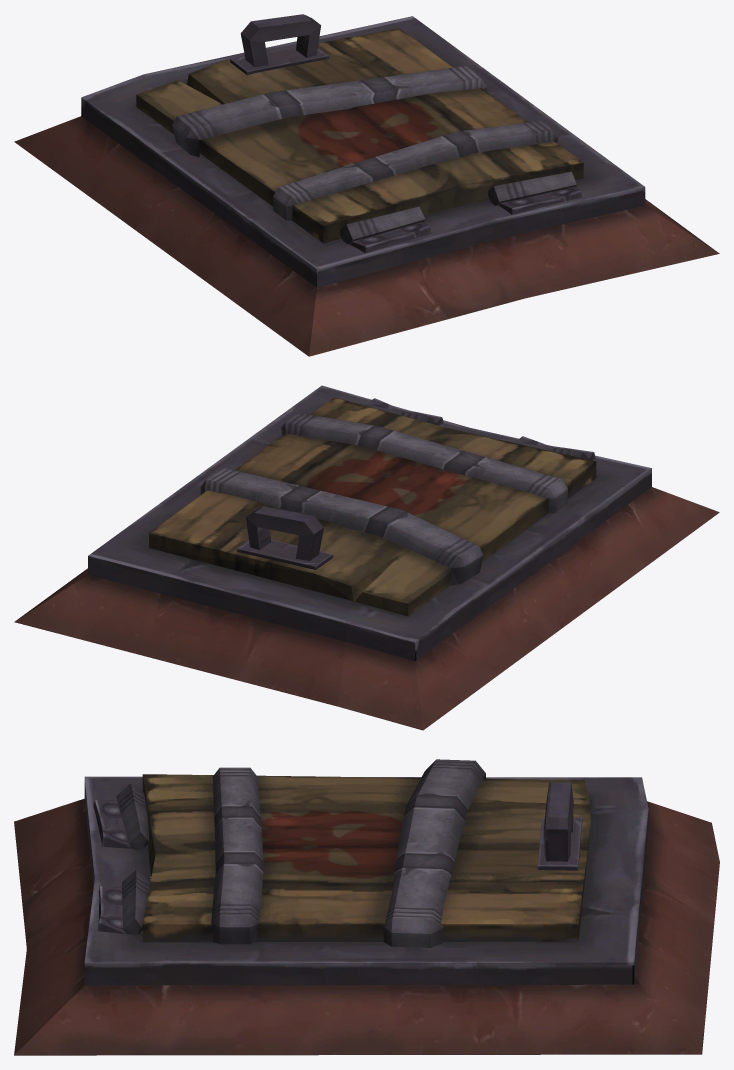
File: lava_trapdoor_01.fbx
The picture shows the model from 3 angles, top to bottom: view 1: azimuth 30°, elevation 25°; view 2: azimuth 150°, elevation 25°; view 3: azimuth 270°, elevation 25°; orthographic projection. The views are drawn at different scales.
Visible parts, largest first — view 1: obj0.073; view 2: obj0.073; view 3: obj0.073.
Boxes of the visible parts, x1,y1,x2,y2 form: obj0.073: [14, 14, 719, 356]; obj0.073: [14, 385, 719, 730]; obj0.073: [14, 759, 719, 1055].
Size of the model in its own units: 2.34 by 0.6555 by 2.94.
